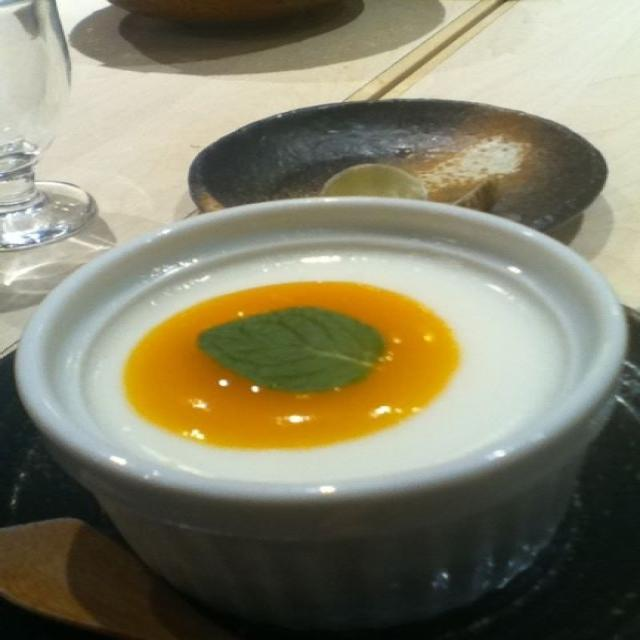面条主食: (105, 51, 553, 574)
